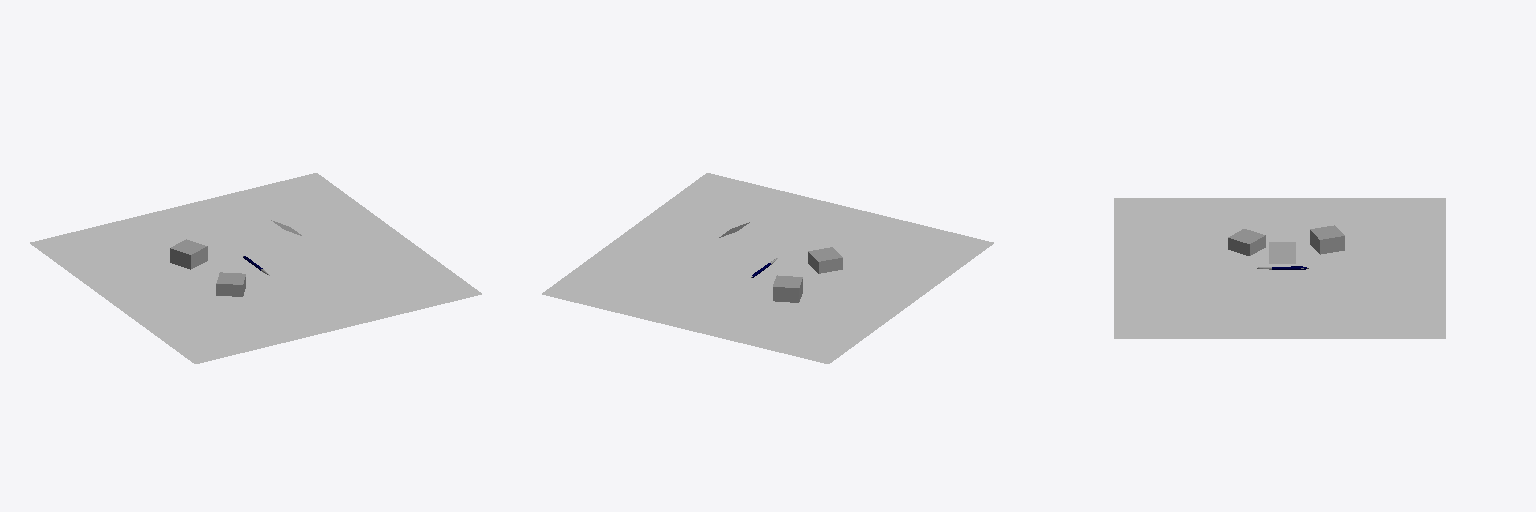
Rendered from Pen_subsurf.obj.
3 renders of one model, left to right at view 1: azimuth 30°, elevation 25°; view 2: azimuth 150°, elevation 25°; view 3: azimuth 270°, elevation 25°, orthographic.
Visible parts, largest first — view 1: Plane.001, Cube.001, Cube; view 2: Plane.001, Cube.001, Cube; view 3: Plane.001, Cube.001, Cube, Plane.
Boxes of the visible parts, box(x1,y1,x2,y2) form: Plane.001: box(30, 173, 481, 363); Cube.001: box(170, 239, 207, 269); Cube: box(216, 272, 245, 296); Plane.001: box(542, 173, 993, 363); Cube.001: box(773, 275, 802, 302); Cube: box(808, 247, 842, 273); Plane.001: box(1114, 198, 1445, 338); Cube.001: box(1310, 225, 1344, 254); Cube: box(1228, 229, 1265, 255); Plane: box(1269, 242, 1295, 263).
Size of the model in its own units: 24.71 by 4.09 by 24.71.